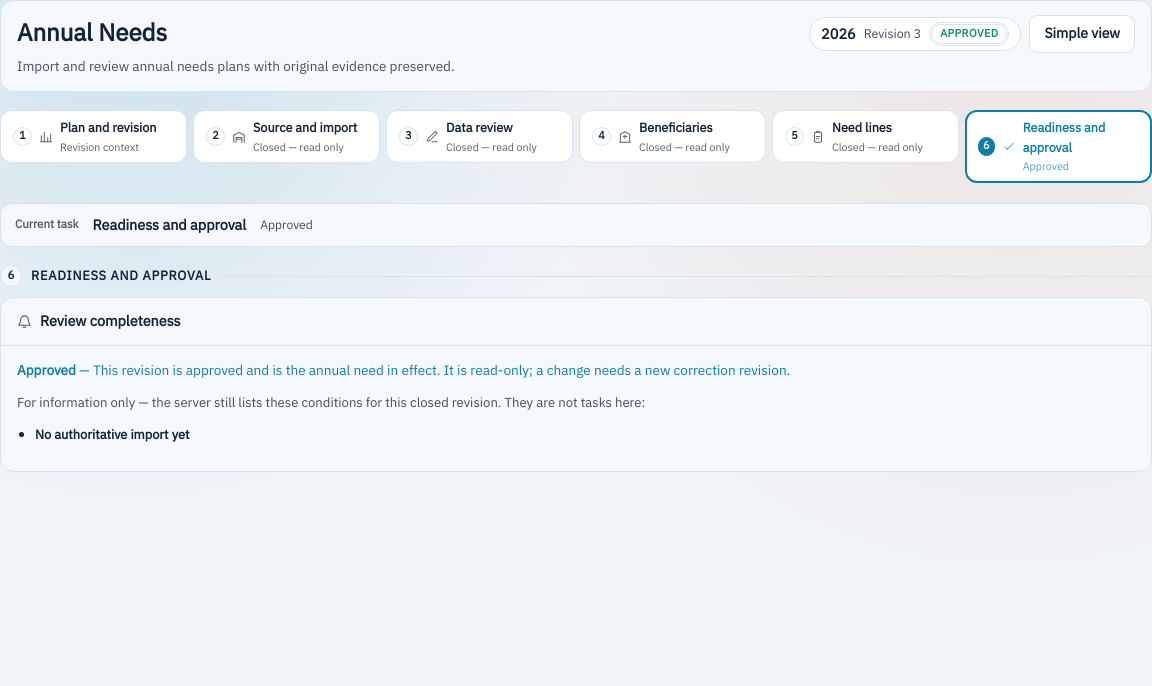
Test case: C2 — Advanced Mode correction › revisions of OTHER plan years never withhold a correction
Click the button "1 Plan and revision Revision context". click: (94, 137)
box: [0,110,187,164]
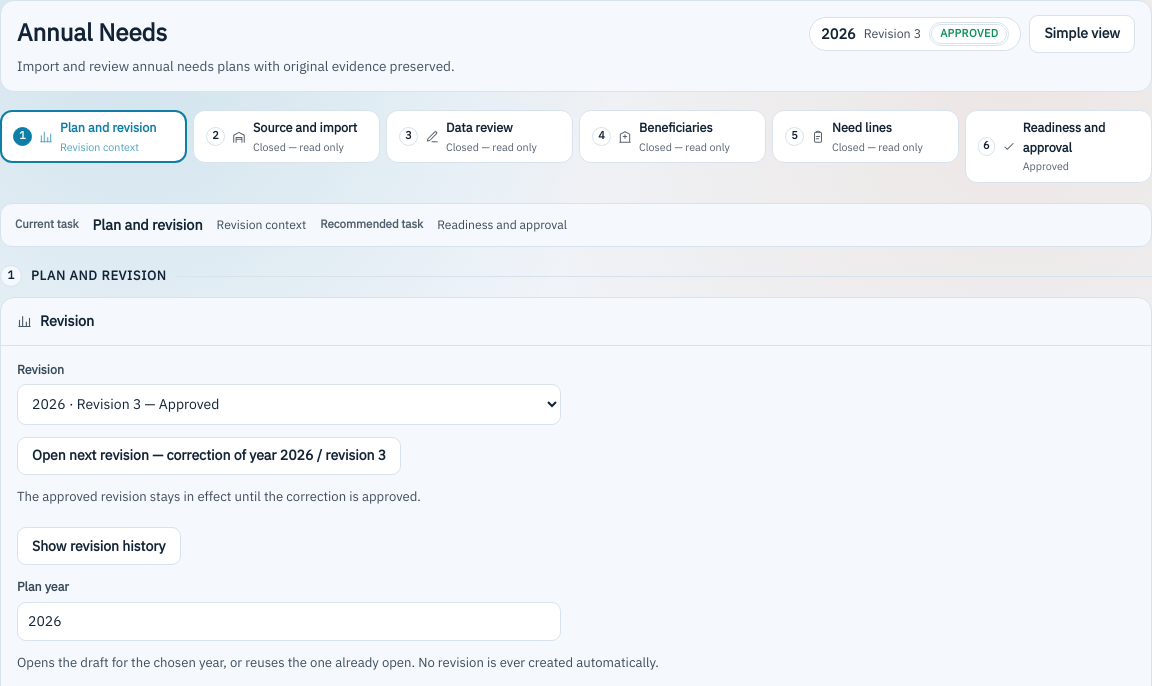
Select "2025 · Revision 1 — Approved" in the dropdown. click: (289, 404)
box: [17,384,561,425]
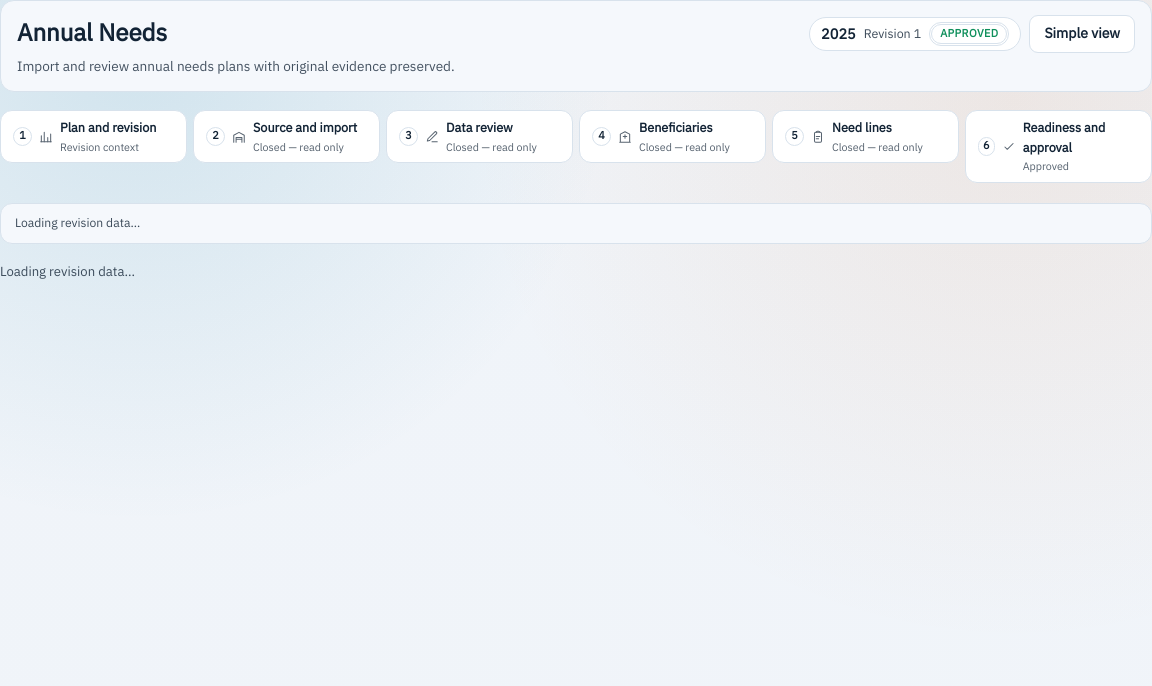
Click the button "1 Plan and revision Revision context". click: (94, 137)
box: [0,110,187,164]
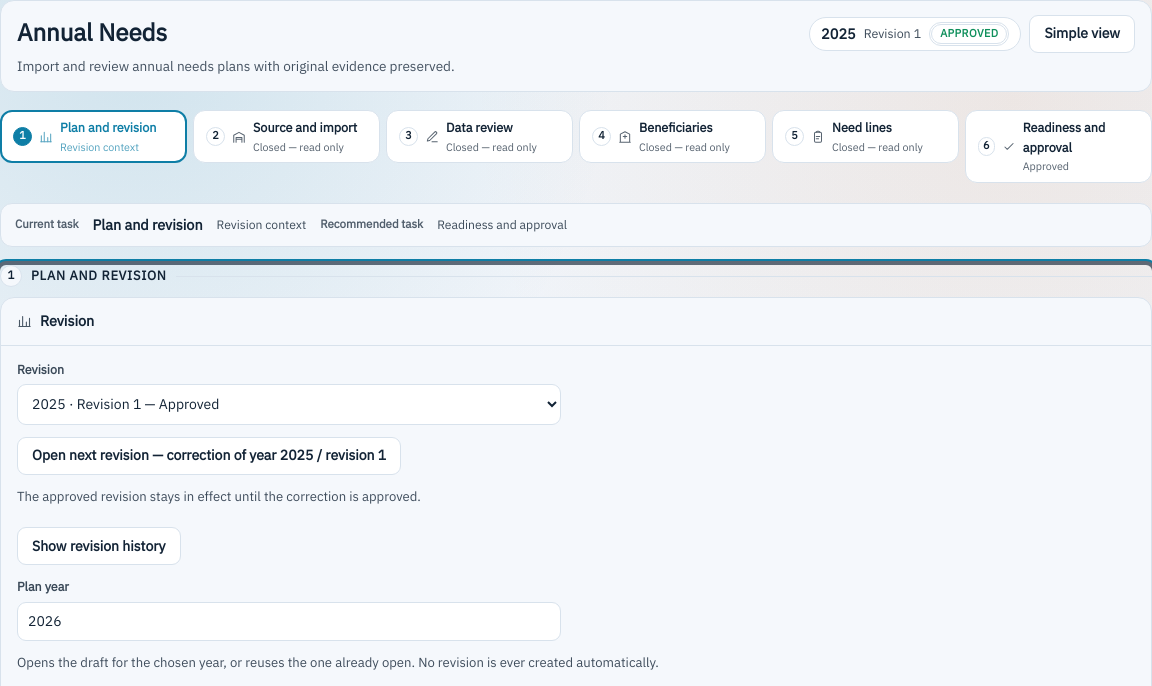
Expected: the button with test id "cn2b-open-next-revision" is enabled, [17,437,401,475]
